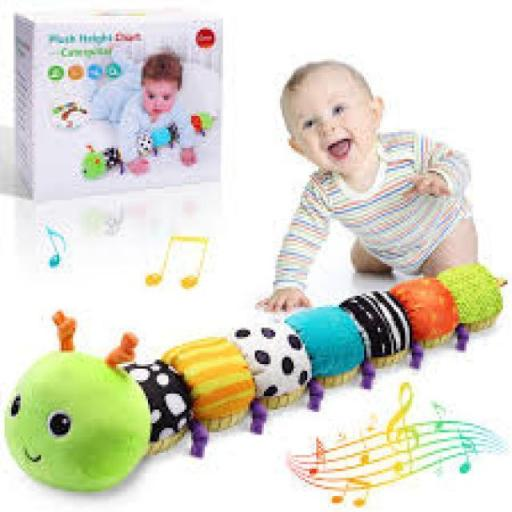baby: (259, 62, 477, 311), (91, 49, 196, 173)
